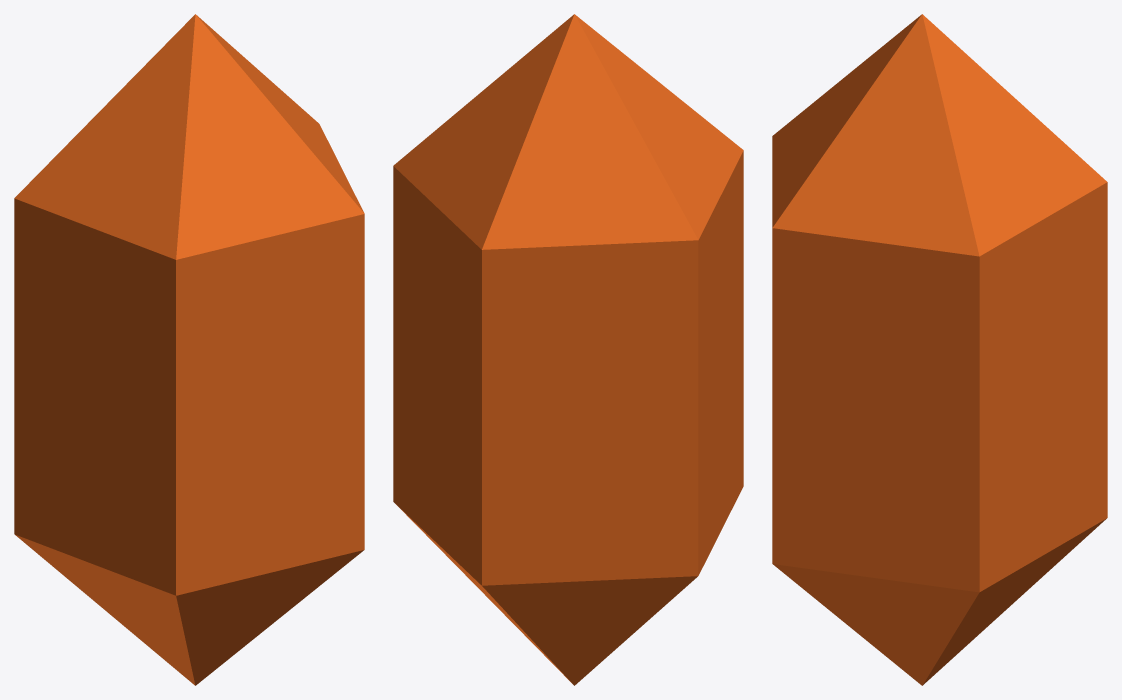
The model's file is crystal_for_tower.fbx.
The picture shows the model from 3 angles, left to right: view 1: azimuth 30°, elevation 25°; view 2: azimuth 150°, elevation 25°; view 3: azimuth 270°, elevation 25°; orthographic projection.
Parts seen in each view (by area): view 1: crystal; view 2: crystal; view 3: crystal.
Part boxes in pixels (bbox=[...]): crystal: bbox=[14, 14, 364, 685]; crystal: bbox=[393, 14, 743, 685]; crystal: bbox=[772, 14, 1107, 685].
Size of the model in its own units: 1.02 by 0.9672 by 2.14.
